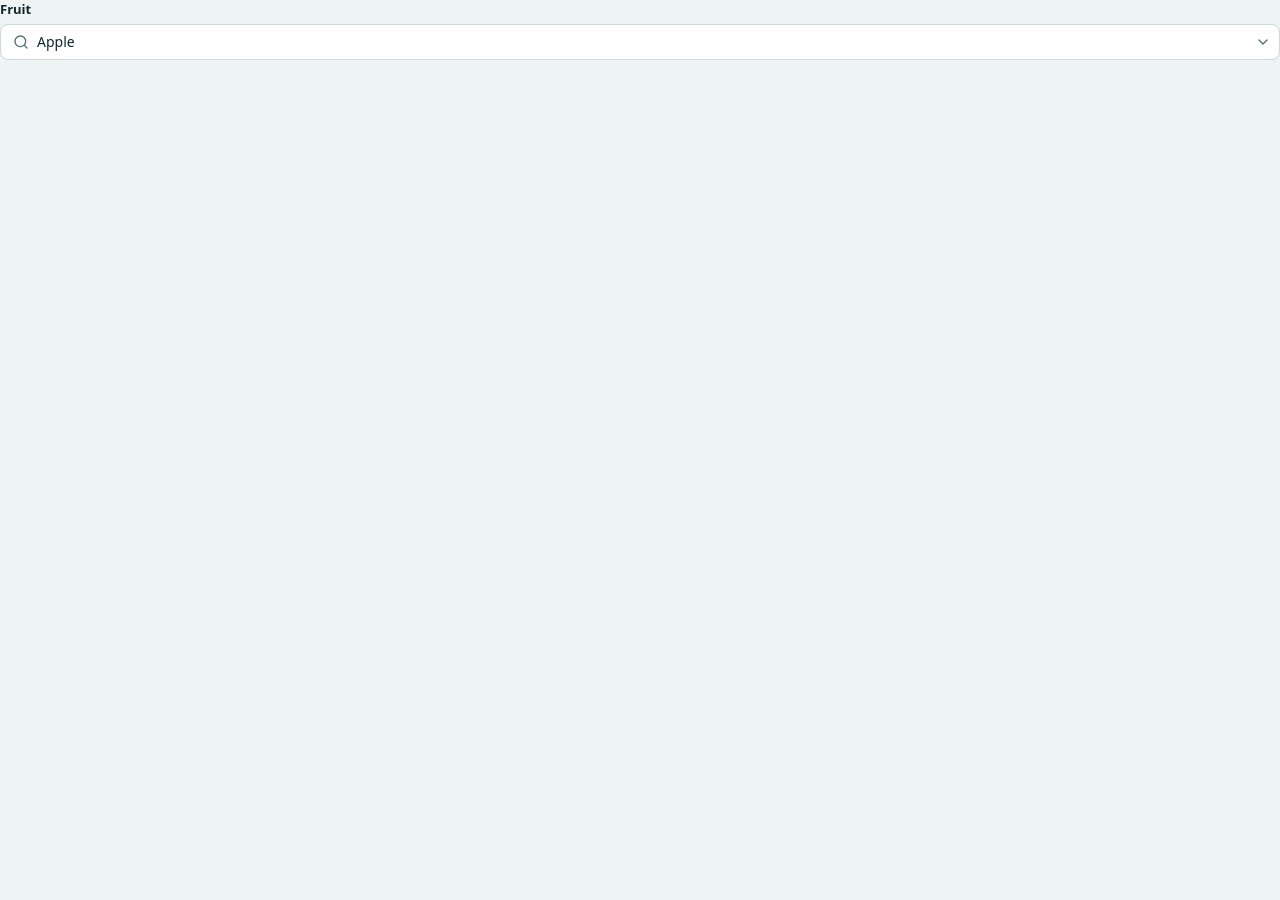
Combobox › Tab com texto livre restaura o rótulo do valor atual
Replace the text in the dropdown labelled "Fruit" with "xyzzy" at (640, 42), box [37,24,1243,58]
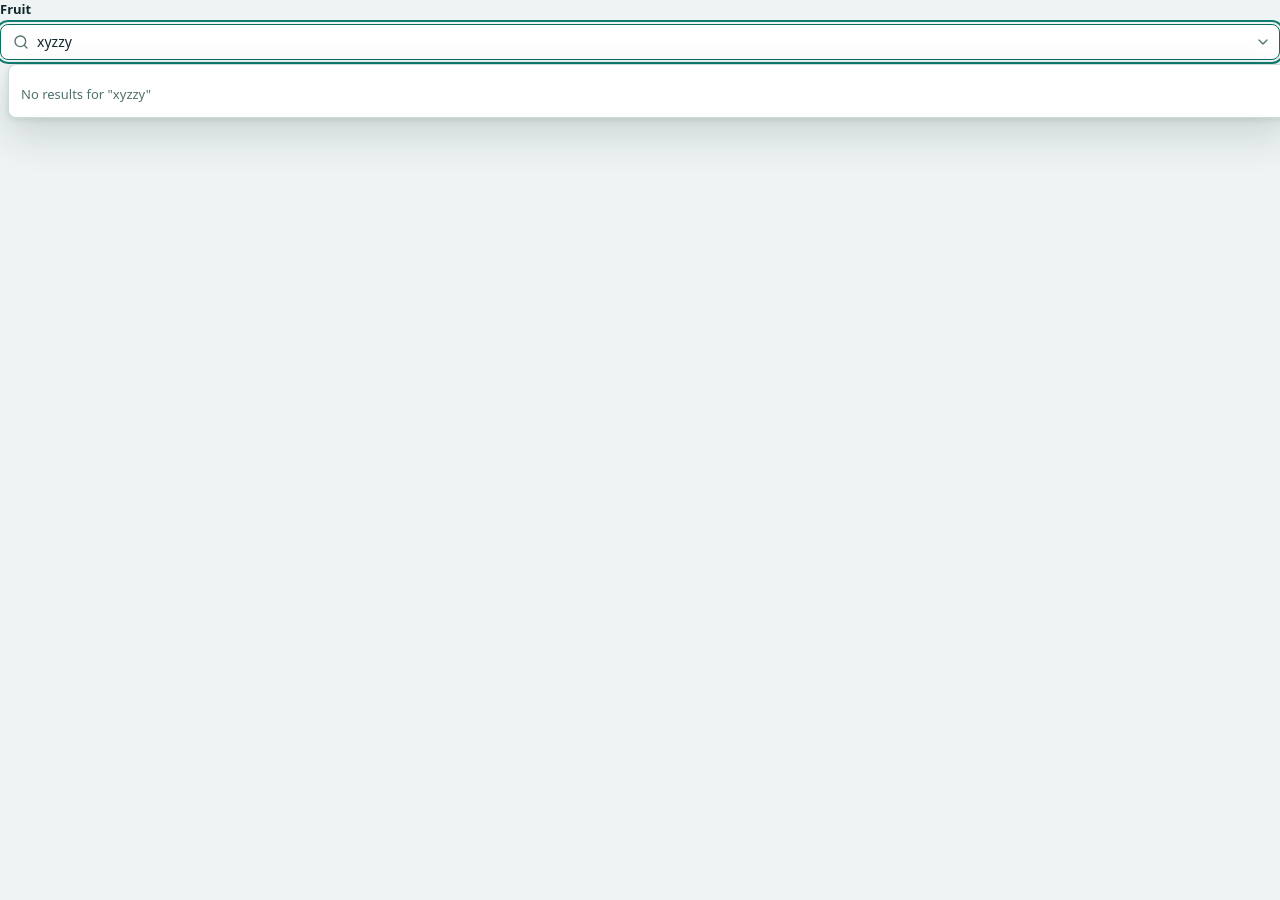
Press Tab
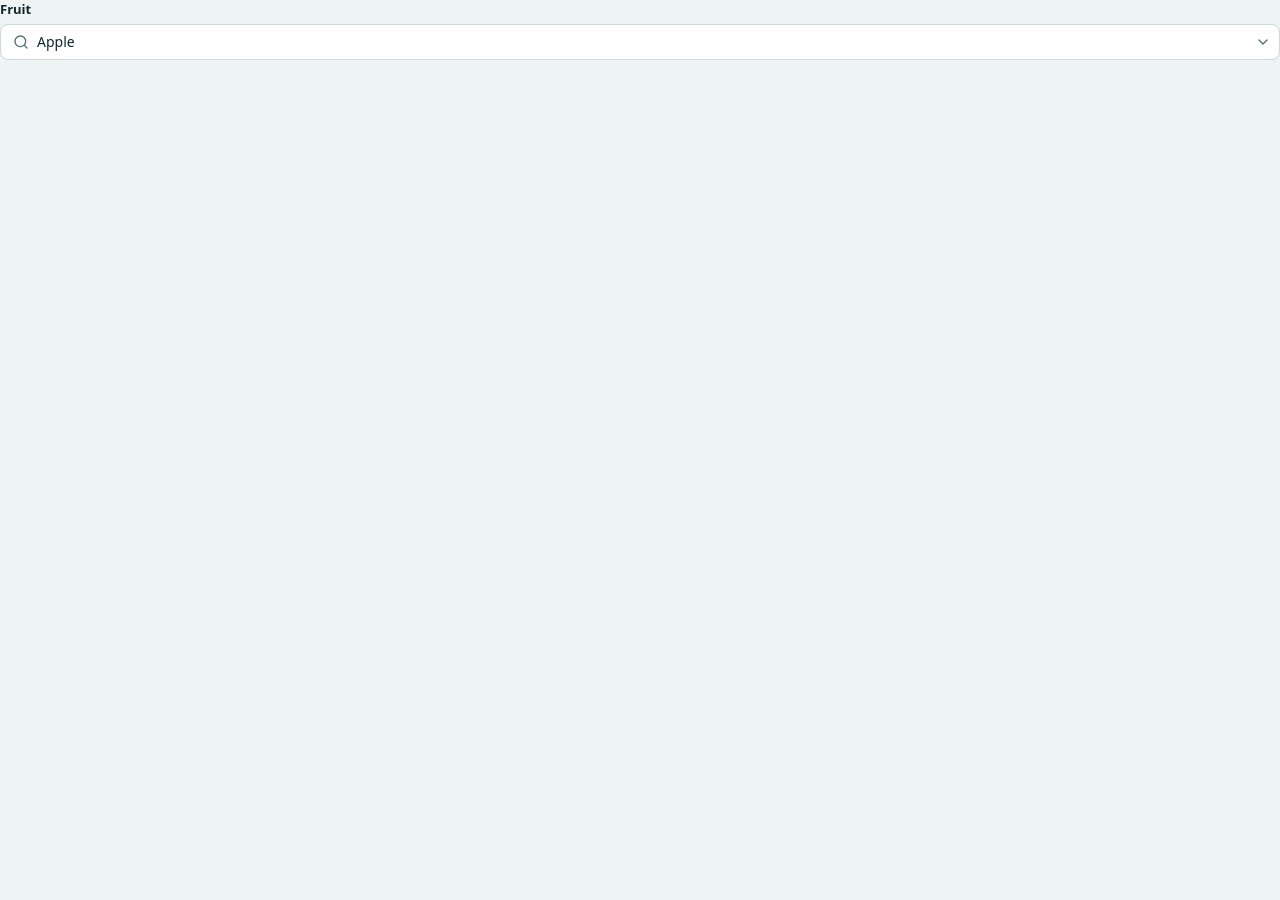
Check: the dropdown labelled "Fruit" holds "Apple", box [37,24,1243,58]
